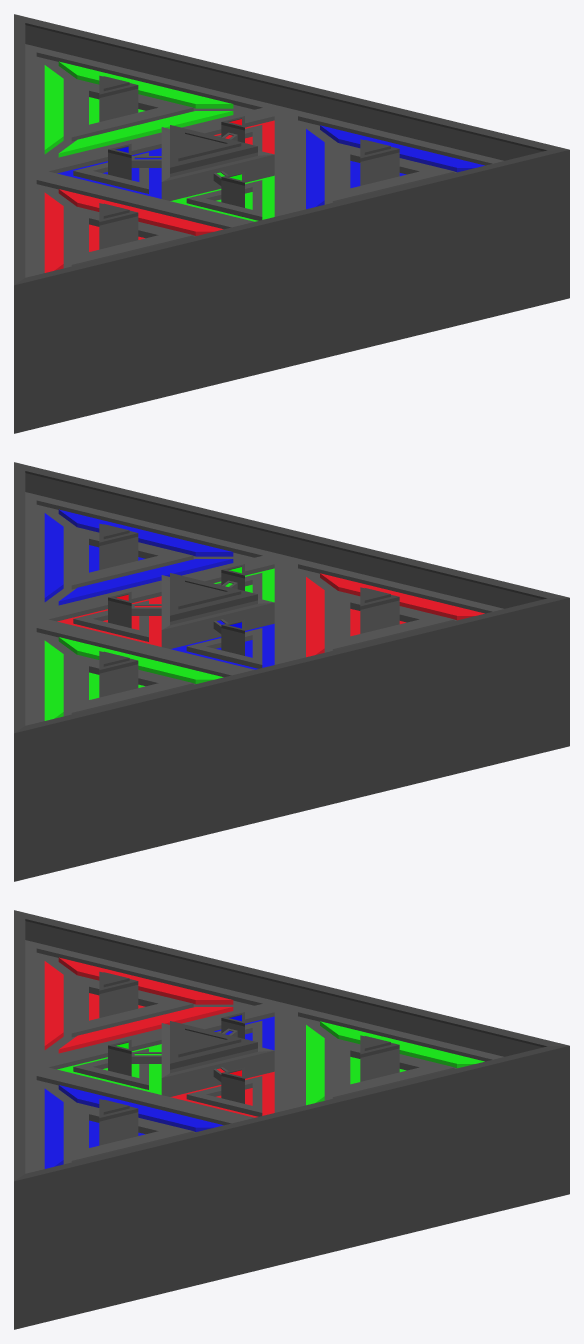
File: Torneio.fbx
3 renders of one model, top to bottom at view 1: azimuth 30°, elevation 25°; view 2: azimuth 150°, elevation 25°; view 3: azimuth 270°, elevation 25°, orthographic.
Parts seen in each view (by area): view 1: Torneio; view 2: Torneio; view 3: Torneio.
Part boxes in pixels (x1=…): Torneio: x1=14, y1=14, x2=569, y2=433; Torneio: x1=14, y1=462, x2=569, y2=881; Torneio: x1=14, y1=910, x2=569, y2=1329.
Bounding box in the file's own units: 2767 × 737 × 2396.
